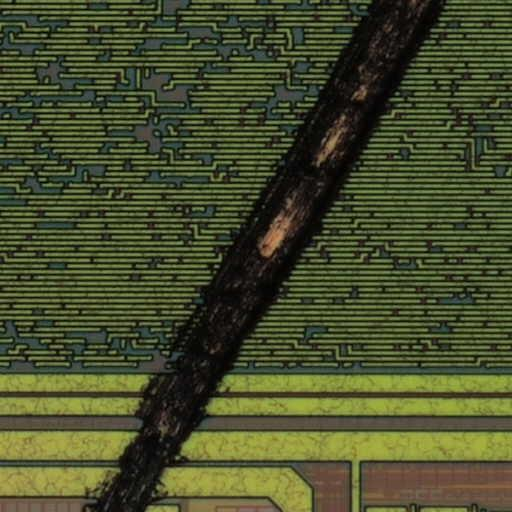SCRATCH: (76, 1, 462, 512)
